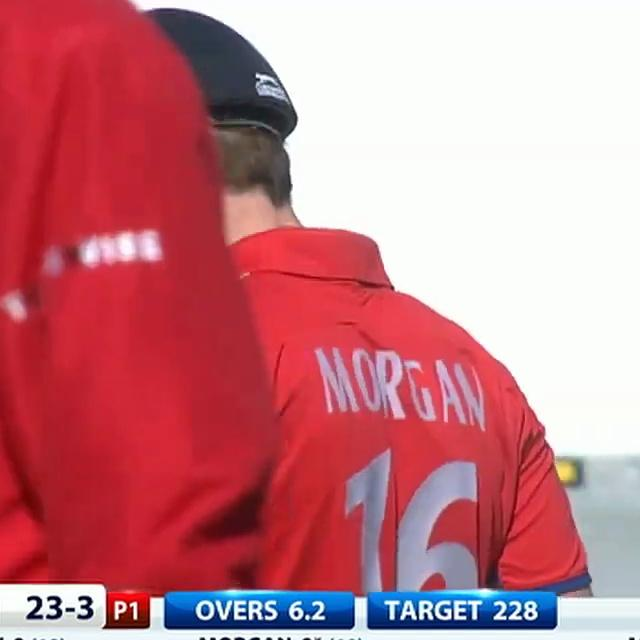person: (0, 0, 628, 593)
